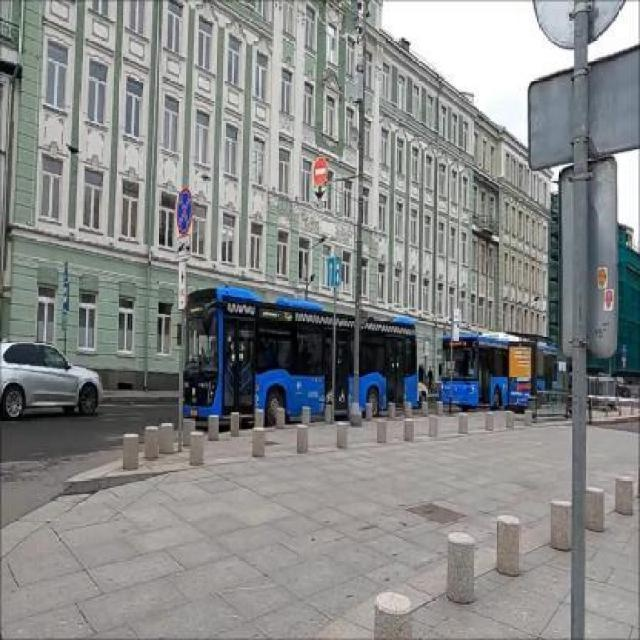bus: (164, 258, 432, 460), (437, 322, 571, 433)
car: (5, 328, 119, 428)
